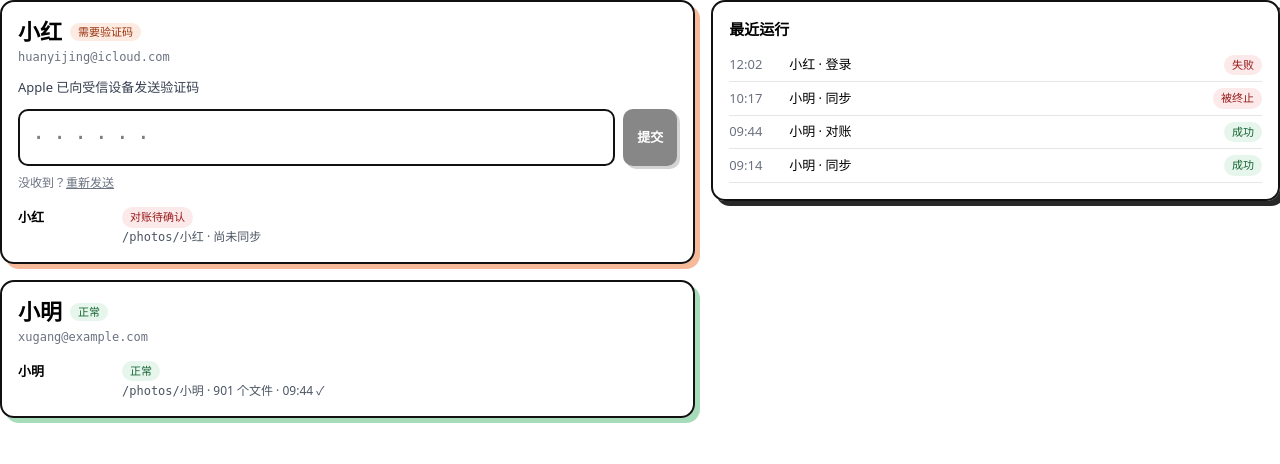
Scenario: AccountCard 2FA flow › a wrong code on the run started by 重新发送 shows before the runs list knows it
Expected: the field named "验证码" is shown, [18, 109, 615, 166]
Click the button "重新发送".
click(90, 183)  # box [66, 174, 114, 192]
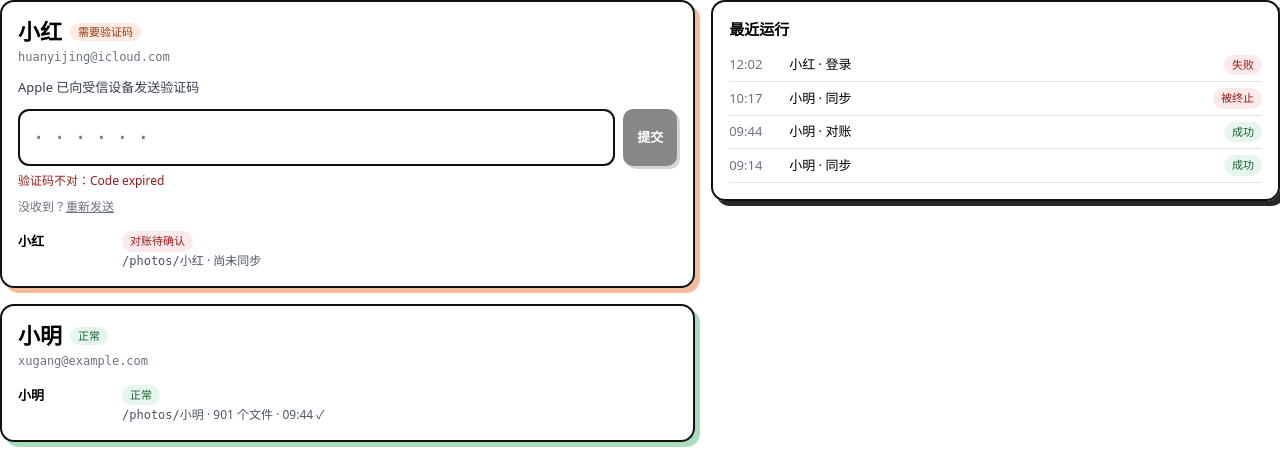
Now the text "验证码不对：Code expired" is shown, box [18, 172, 164, 189]
